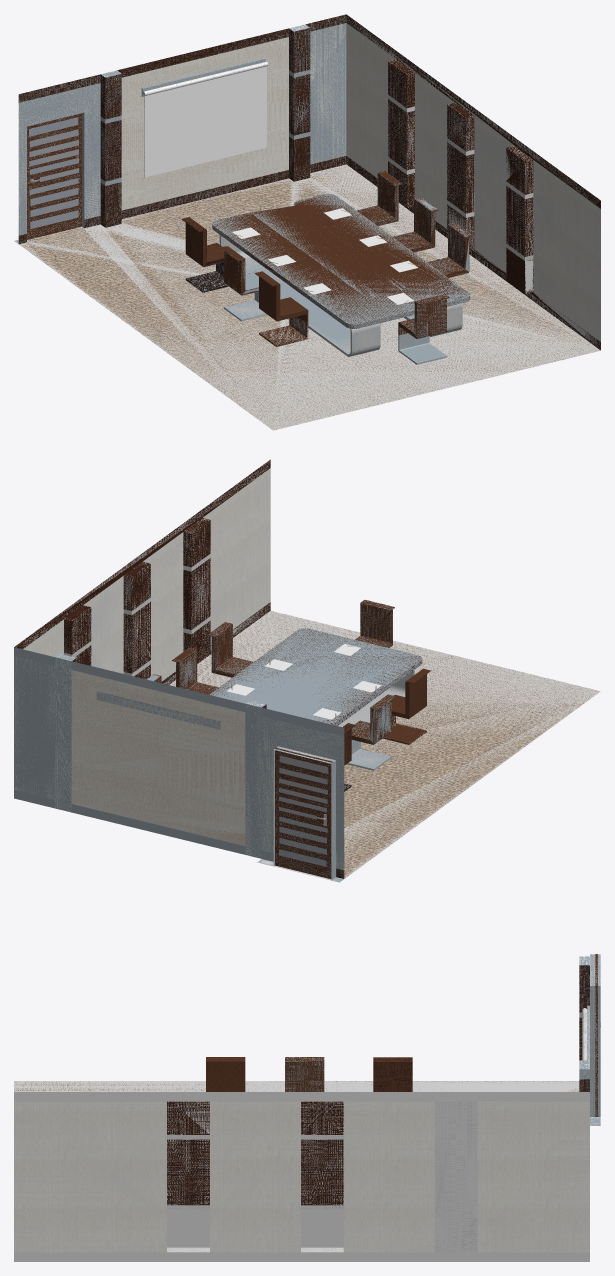
Rendered from garudameetingroom.fbx.
The picture shows the model from 3 angles, top to bottom: view 1: azimuth 30°, elevation 25°; view 2: azimuth 150°, elevation 25°; view 3: azimuth 270°, elevation 25°; orthographic projection. The views are drawn at different scales.
Parts seen in each view (by area): view 1: Model, Component_2_1, Group1, Component_1_7, Component_1_1, Component_1_4, Component_1_2, Component_1_6, Component_1_3, Component_1_5; view 2: Model, Component_2_1, Group1, Component_1_2, Component_1_1, Component_1_7, Component_1_5, Component_1_6; view 3: Model, Component_1_1, Component_1_2, Component_1_4, Group1.
Part boxes in pixels (bbox=[...]): Model: bbox=[14, 14, 600, 430]; Component_2_1: bbox=[212, 193, 469, 356]; Group1: bbox=[27, 113, 81, 239]; Component_1_7: bbox=[398, 294, 449, 364]; Component_1_1: bbox=[255, 271, 308, 346]; Component_1_4: bbox=[181, 217, 228, 292]; Component_1_2: bbox=[220, 245, 267, 321]; Component_1_6: bbox=[393, 197, 439, 252]; Component_1_3: bbox=[357, 171, 402, 226]; Component_1_5: bbox=[427, 222, 472, 277]; Model: bbox=[14, 459, 600, 882]; Component_2_1: bbox=[209, 628, 422, 726]; Group1: bbox=[275, 747, 333, 878]; Component_1_2: bbox=[347, 694, 395, 770]; Component_1_1: bbox=[382, 668, 430, 744]; Component_1_7: bbox=[355, 599, 394, 647]; Component_1_5: bbox=[207, 622, 253, 677]; Component_1_6: bbox=[172, 647, 218, 694]; Model: bbox=[14, 954, 600, 1261]; Component_1_1: bbox=[206, 1057, 245, 1091]; Component_1_2: bbox=[285, 1057, 324, 1091]; Component_1_4: bbox=[373, 1057, 412, 1091]; Group1: bbox=[595, 954, 597, 1116].
Bounding box in the file's own units: 8 × 3.5 × 10.96.
